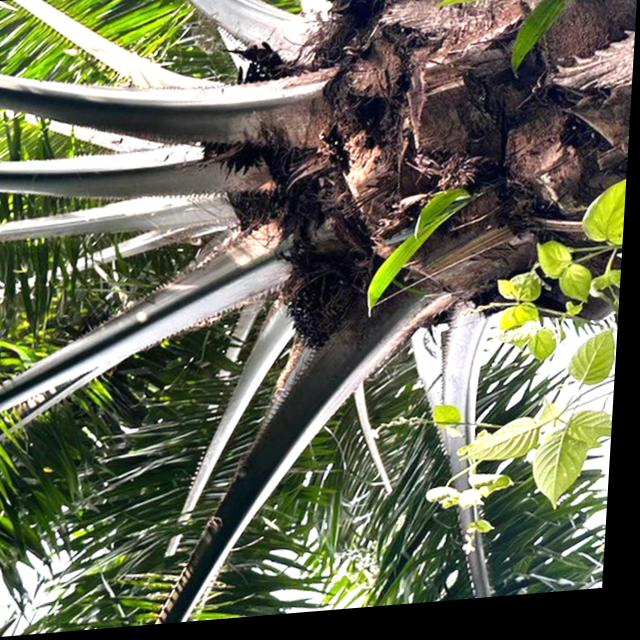unripe: (277, 235, 394, 367)
